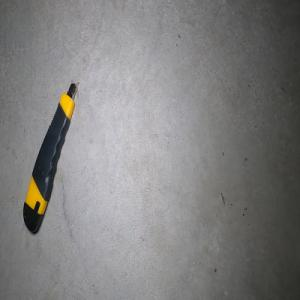Cutter: (22, 82, 77, 235)
